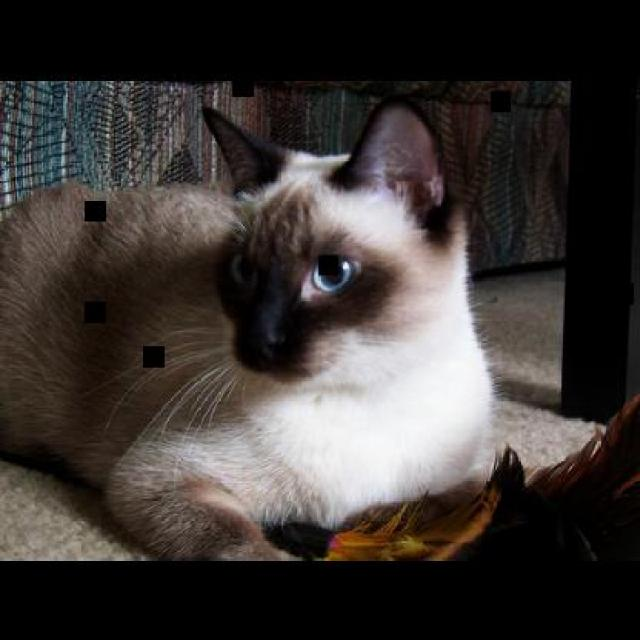unauthorized: (0, 95, 502, 560)
